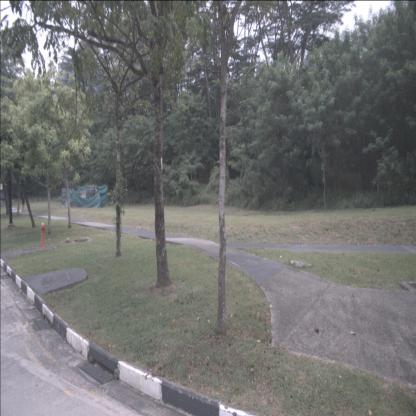human-pedestrian-adult: (22, 194, 25, 213)
